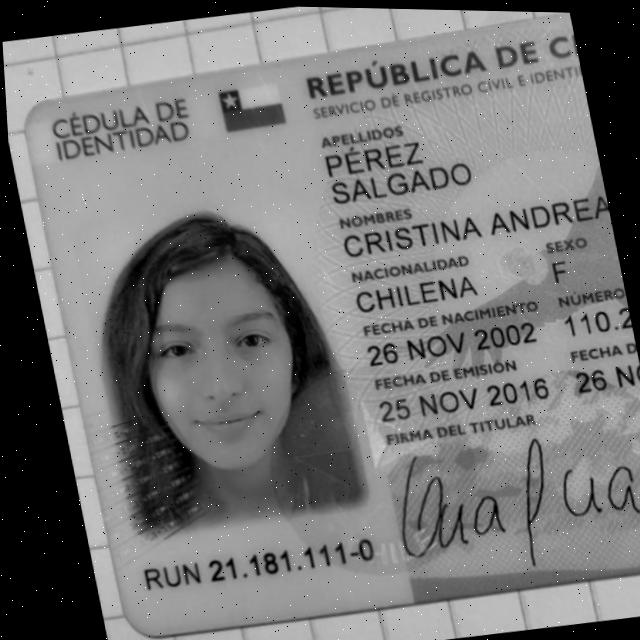card: (27, 16, 639, 635)
